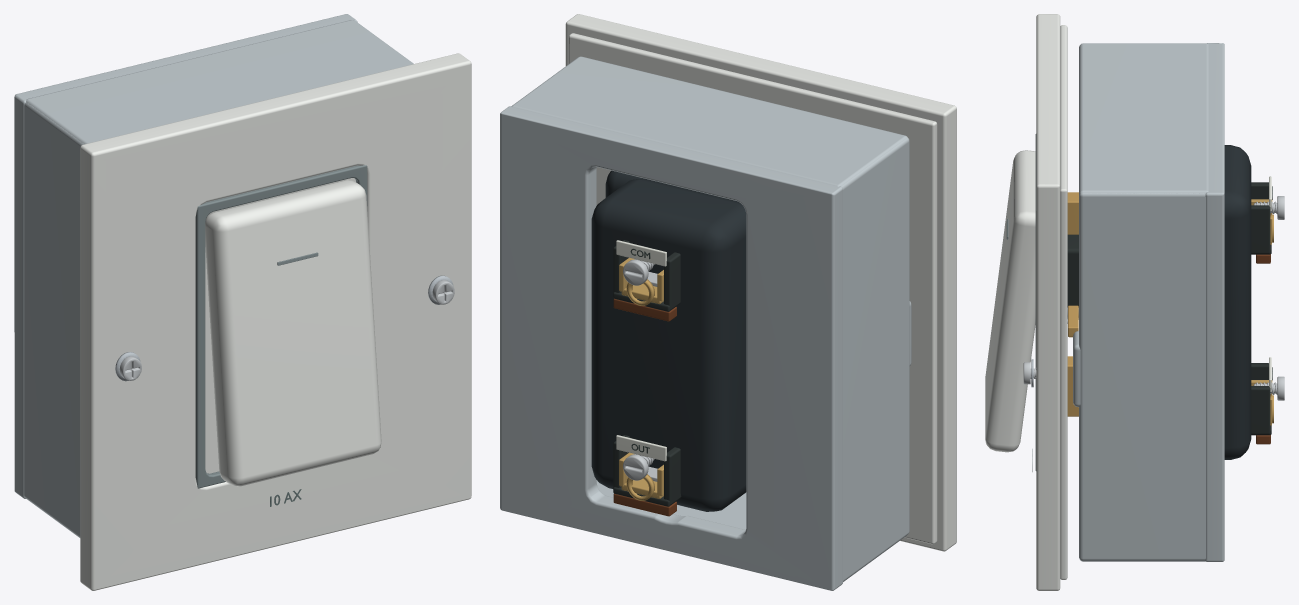
The model's file is switch_single-rocker.glb.
The picture shows the model from 3 angles, left to right: view 1: azimuth 30°, elevation 25°; view 2: azimuth 150°, elevation 25°; view 3: azimuth 270°, elevation 25°; orthographic projection. The views are drawn at different scales.
Parts seen in each view (by area): view 1: part:cover · Satin moulded white plastic, part:body · Brushed nickel fixings, Convex moulded rocker, Rocker recessed surround, detail:faceplate-fixing · Detail zinc plated fixing; view 2: part:body · Brushed nickel fixings, part:terminals · Mechanism thermoplastic, part:cover · Satin moulded white plastic, detail:terminal-clamp:OUT · Detail moulded engineering polym, detail:terminal-clamp:COM · Detail moulded engineering polym, detail:terminal-clamp:OUT · Detail machined brass, detail:terminal-clamp:COM · Detail machined brass, Moulded terminal legend pad, Moulded terminal legend pad.001, detail:terminal-clamp:COM · Detail zinc plated fixing, detail:terminal-clamp:OUT · Detail zinc plated fixing, Moulded conductor identification.001 (+1 smaller); view 3: part:body · Brushed nickel fixings, part:cover · Satin moulded white plastic, Convex moulded rocker, part:terminals · Mechanism thermoplastic, detail:terminal-clamp:COM · Detail moulded engineering polym, detail:terminal-clamp:OUT · Detail moulded engineering polym, part:contacts · Terminal contact brass, Insulating cam follower, Rocker recessed surround.
Boxes of the visible parts, left/top/right/bottom form: part:cover · Satin moulded white plastic: left=80, top=53, right=471, bottom=590; part:body · Brushed nickel fixings: left=14, top=14, right=413, bottom=537; Convex moulded rocker: left=205, top=180, right=381, bottom=486; Rocker recessed surround: left=195, top=165, right=367, bottom=488; detail:faceplate-fixing · Detail zinc plated fixing: left=119, top=280, right=454, bottom=380; part:body · Brushed nickel fixings: left=500, top=56, right=911, bottom=590; part:terminals · Mechanism thermoplastic: left=591, top=179, right=746, bottom=511; part:cover · Satin moulded white plastic: left=565, top=14, right=956, bottom=551; detail:terminal-clamp:OUT · Detail moulded engineering polym: left=613, top=435, right=681, bottom=506; detail:terminal-clamp:COM · Detail moulded engineering polym: left=613, top=240, right=680, bottom=311; detail:terminal-clamp:OUT · Detail machined brass: left=619, top=452, right=663, bottom=500; detail:terminal-clamp:COM · Detail machined brass: left=619, top=257, right=663, bottom=305; Moulded terminal legend pad: left=616, top=240, right=666, bottom=266; Moulded terminal legend pad.001: left=616, top=435, right=666, bottom=461; detail:terminal-clamp:COM · Detail zinc plated fixing: left=623, top=259, right=657, bottom=286; detail:terminal-clamp:OUT · Detail zinc plated fixing: left=623, top=454, right=657, bottom=481; Moulded conductor identification.001: left=613, top=493, right=676, bottom=516; part:body · Brushed nickel fixings: left=1073, top=43, right=1224, bottom=561; part:cover · Satin moulded white plastic: left=1036, top=14, right=1067, bottom=590; Convex moulded rocker: left=985, top=150, right=1035, bottom=452; part:terminals · Mechanism thermoplastic: left=1224, top=145, right=1251, bottom=459; detail:terminal-clamp:COM · Detail moulded engineering polym: left=1251, top=182, right=1271, bottom=254; detail:terminal-clamp:OUT · Detail moulded engineering polym: left=1251, top=363, right=1271, bottom=435; part:contacts · Terminal contact brass: left=1067, top=192, right=1078, bottom=416; Insulating cam follower: left=1067, top=234, right=1078, bottom=307; Rocker recessed surround: left=1035, top=134, right=1036, bottom=470.
Size of the model in its own units: 0.8758 by 0.9636 by 0.6435.
